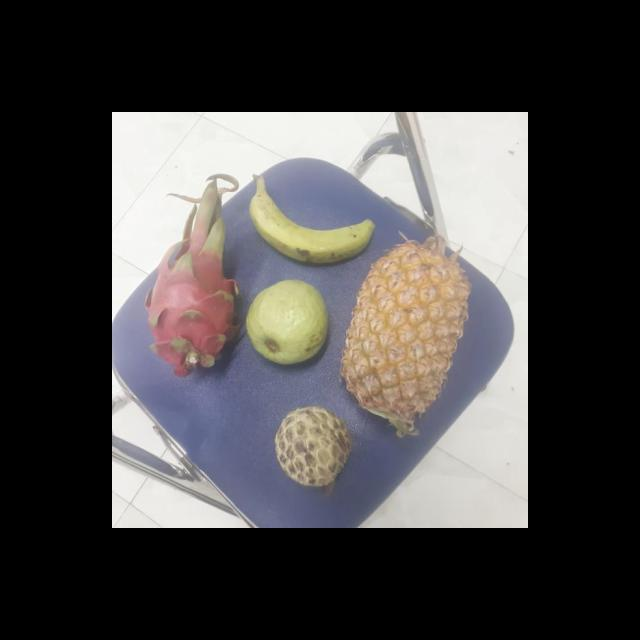Sakya fruit: (275, 404, 355, 488)
banana: (255, 187, 377, 264)
guava: (246, 281, 334, 365)
pineapple: (342, 242, 477, 428)
pitaya: (148, 235, 246, 372)
